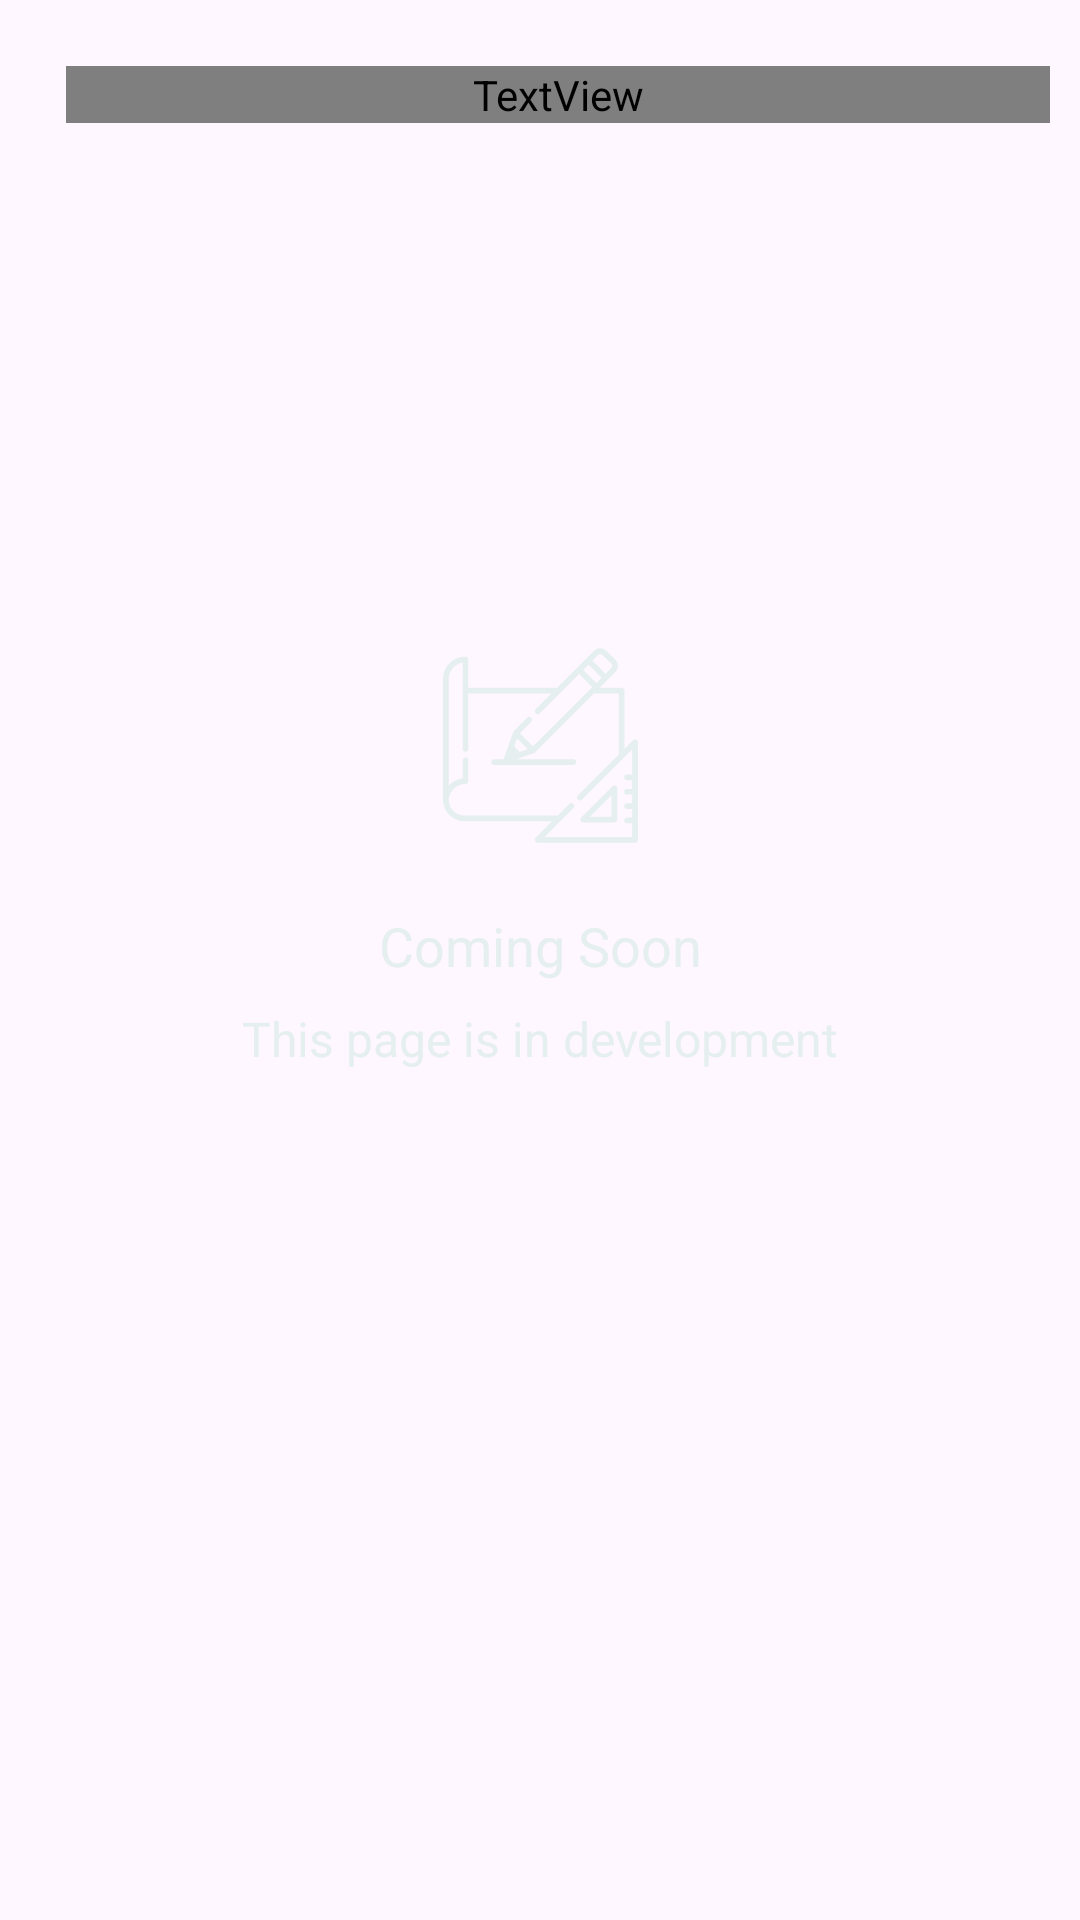

Screen size 1080 × 1920. Icon name, then its box in pixels as box(x1, y1, x2, y2):
sketch: box(443, 649, 638, 842)
